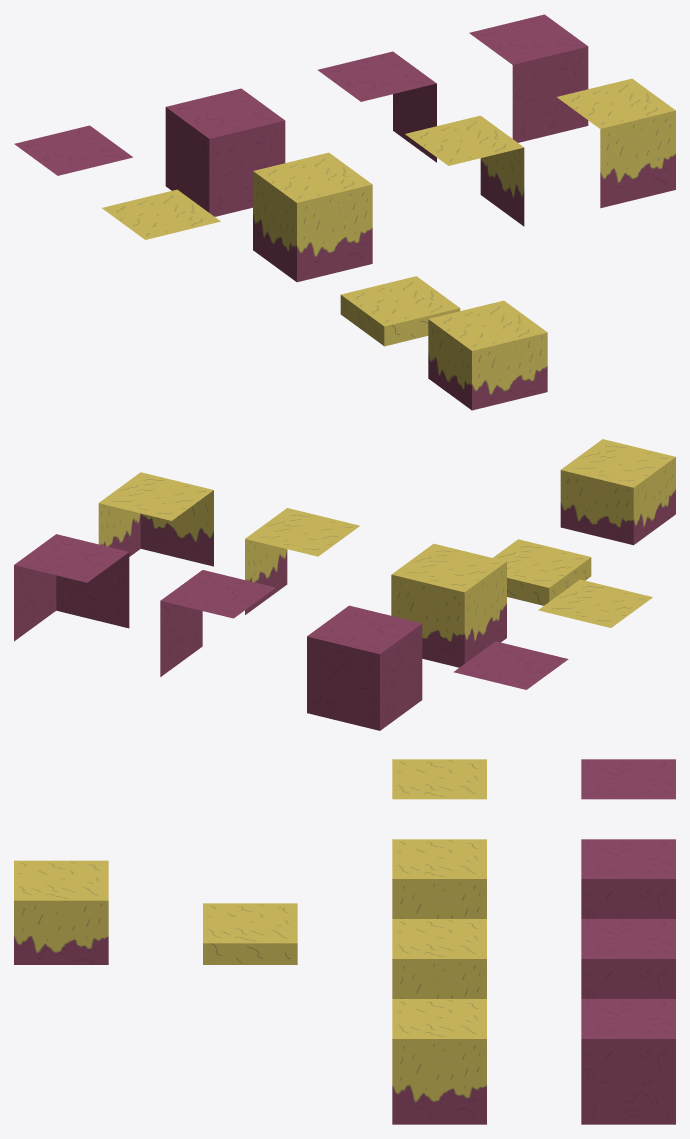
Rendered from test_stage_blender.glb.
The picture shows the model from 3 angles, top to bottom: view 1: azimuth 30°, elevation 25°; view 2: azimuth 150°, elevation 25°; view 3: azimuth 270°, elevation 25°; orthographic projection. The views are drawn at different scales.
Visible parts, largest first — view 1: Grass, Dirt, GrassHalf, GrassV3, DirtV3, GrassV2, DirtV2, GrassBit, GrassUp, DirtUp; view 2: Dirt, Grass, GrassHalf, DirtV3, GrassV3, DirtV2, GrassV2, GrassBit, DirtUp, GrassUp; view 3: GrassV3, DirtV3, GrassHalf, Grass, Dirt, GrassV2, DirtV2, GrassBit, GrassUp, DirtUp.
Part boxes in pixels (x1,y1,x2,y2): Grass: [253, 152, 372, 282]; Dirt: [165, 88, 285, 216]; GrassHalf: [428, 300, 547, 410]; GrassV3: [557, 78, 675, 208]; DirtV3: [469, 14, 588, 142]; GrassV2: [405, 115, 524, 226]; DirtV2: [318, 51, 436, 162]; GrassBit: [340, 276, 460, 346]; GrassUp: [102, 189, 220, 239]; DirtUp: [14, 125, 132, 175]; Dirt: [307, 605, 422, 730]; Grass: [391, 543, 506, 667]; GrassHalf: [560, 439, 675, 545]; DirtV3: [14, 534, 129, 641]; GrassV3: [98, 472, 213, 566]; DirtV2: [160, 570, 275, 676]; GrassV2: [245, 508, 359, 614]; GrassBit: [493, 539, 591, 605]; DirtUp: [453, 641, 568, 689]; GrassUp: [538, 579, 652, 627]; GrassV3: [392, 999, 486, 1124]; DirtV3: [581, 999, 675, 1124]; GrassHalf: [14, 860, 108, 964]; Grass: [392, 839, 486, 918]; Dirt: [581, 839, 675, 918]; GrassV2: [392, 919, 486, 998]; DirtV2: [581, 919, 675, 998]; GrassBit: [203, 903, 297, 964]; GrassUp: [392, 759, 486, 799]; DirtUp: [581, 759, 675, 799].
Size of what is drawn, in the model's own units: 14 by 2 by 14.
3 materials, 3 textured.
